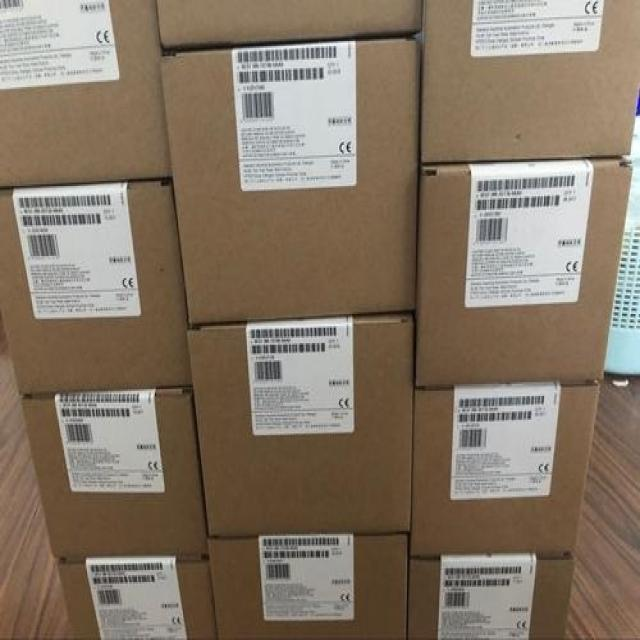box: (162, 39, 420, 328), (188, 313, 417, 536), (416, 158, 634, 388), (1, 182, 190, 395), (421, 1, 639, 165), (411, 384, 600, 559), (23, 388, 208, 561), (0, 1, 170, 189), (210, 535, 409, 638), (55, 557, 219, 638), (158, 1, 423, 51), (410, 559, 574, 638)
